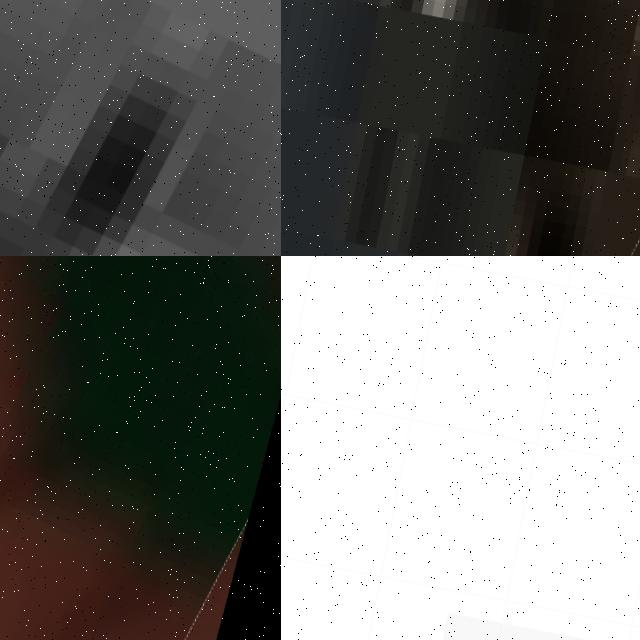0: (0, 0, 281, 256), (543, 0, 640, 256)
drone: (0, 256, 281, 640)
